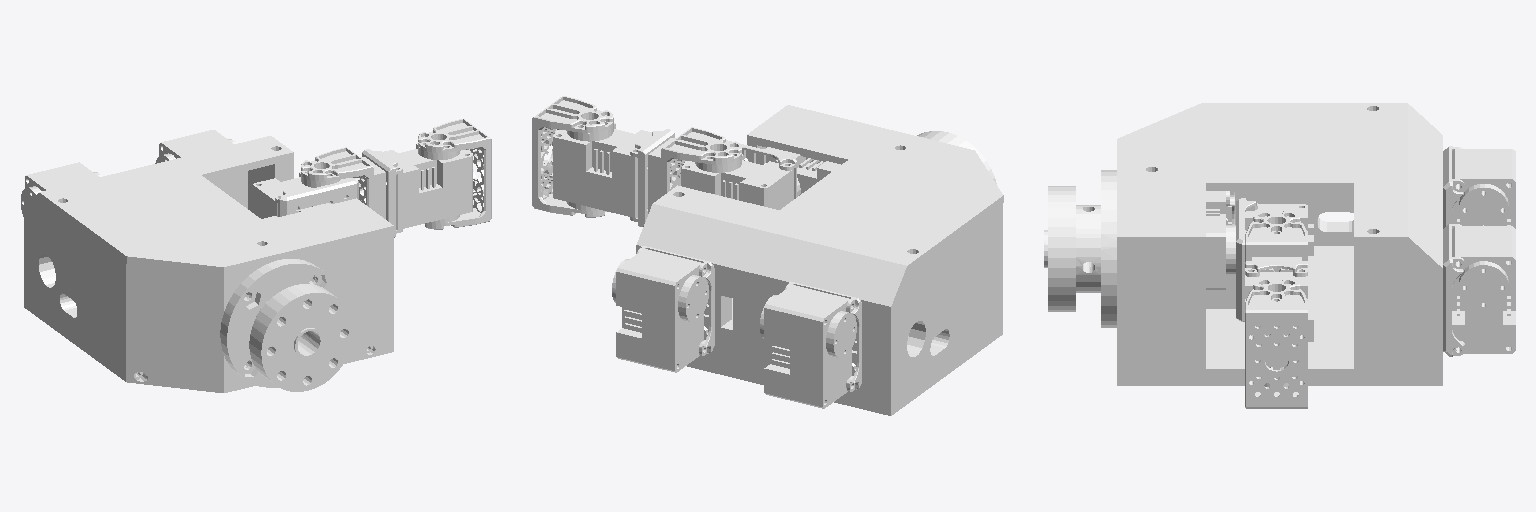
The robot description file, URDF, robot "GX11":
<?xml version="1.0" encoding="utf-8"?>
<!-- This URDF was automatically created by SolidWorks to URDF Exporter! Originally created by Stephen Brawner (brawner@gmail.com) 
     Commit Version: 1.6.0-4-g7f85cfe  Build Version: 1.6.7995.38578
     For more information, please see http://wiki.ros.org/sw_urdf_exporter -->
<robot
  name="GX11">
  <link
    name="base_link">
    <inertial>
      <origin
        xyz="-0.000164465254966286 0.0753636764228905 -0.000506878057324069"
        rpy="0 0 0" />
      <mass
        value="0.266277587847292" />
      <inertia
        ixx="0.000187302227077025"
        ixy="1.5370580827788E-05"
        ixz="6.53664500625844E-06"
        iyy="0.000234511583653576"
        iyz="-7.69527139734874E-06"
        izz="0.000333571603957182" />
    </inertial>
    <visual>
      <origin
        xyz="0 0 0"
        rpy="0 0 0" />
      <geometry>
        <mesh
          filename="meshes/base_link.STL" />
      </geometry>
      <material
        name="">
        <color
          rgba="1 1 1 1" />
      </material>
    </visual>
    <collision>
      <origin
        xyz="0 0 0"
        rpy="0 0 0" />
      <geometry>
        <mesh
          filename="meshes/base_link.STL" />
      </geometry>
    </collision>
  </link>
  <link
    name="link1">
    <inertial>
      <origin
        xyz="-0.00806405790907332 -0.000279377679083986 -0.00113281933961043"
        rpy="0 0 0" />
      <mass
        value="0.0176678393044671" />
      <inertia
        ixx="1.47006653227034E-06"
        ixy="1.17278886070137E-08"
        ixz="4.36396719283536E-15"
        iyy="2.21216244462258E-06"
        iyz="-1.53911853230504E-16"
        izz="2.71458475514186E-06" />
    </inertial>
    <visual>
      <origin
        xyz="0 0 0"
        rpy="0 0 0" />
      <geometry>
        <mesh
          filename="meshes/link1.STL" />
      </geometry>
      <material
        name="">
        <color
          rgba="1 1 1 1" />
      </material>
    </visual>
    <collision>
      <origin
        xyz="0 0 0"
        rpy="0 0 0" />
      <geometry>
        <mesh
          filename="meshes/link1.STL" />
      </geometry>
    </collision>
  </link>
  <joint
    name="joint1"
    type="revolute">
    <origin
      xyz="0.0330000000000006 0.0735000000000002 0.0150000000000006"
      rpy="1.5707963267949 0 -3.14159265358979" />
    <parent
      link="base_link" />
    <child
      link="link1" />
    <axis
      xyz="0 0 -1" />
    <limit
      lower="-0.349"
      upper="2.049"
      effort="0"
      velocity="0" />
  </joint>
  <link
    name="link2">
    <inertial>
      <origin
        xyz="0.0364441226647731 1.69664629567912E-14 -0.000227157618897906"
        rpy="0 0 0" />
      <mass
        value="0.021729405455091" />
      <inertia
        ixx="2.15176535186668E-06"
        ixy="5.80286874153467E-18"
        ixz="-1.17278836895553E-08"
        iyy="3.16845263970642E-06"
        iyz="1.34205099819563E-18"
        izz="2.34350105652615E-06" />
    </inertial>
    <visual>
      <origin
        xyz="0 0 0"
        rpy="0 0 0" />
      <geometry>
        <mesh
          filename="meshes/link2.STL" />
      </geometry>
      <material
        name="">
        <color
          rgba="1 1 1 1" />
      </material>
    </visual>
    <collision>
      <origin
        xyz="0 0 0"
        rpy="0 0 0" />
      <geometry>
        <mesh
          filename="meshes/link2.STL" />
      </geometry>
    </collision>
  </link>
  <joint
    name="joint2"
    type="revolute">
    <origin
      xyz="-0.015 0 0"
      rpy="1.5707963267949 0 3.14159265358979" />
    <parent
      link="link1" />
    <child
      link="link2" />
    <axis
      xyz="0 0 1" />
    <limit
      lower="-1.9"
      upper="1.2"
      effort="0"
      velocity="0" />
  </joint>
  <link
    name="link3">
    <inertial>
      <origin
        xyz="0.0100787253876422 2.82144967111986E-13 -1.36311968657044E-12"
        rpy="0 0 0" />
      <mass
        value="0.00246574345897091" />
      <inertia
        ixx="5.18359333243009E-07"
        ixy="3.43589587907983E-18"
        ixz="-2.71094054875865E-17"
        iyy="5.59493403624435E-07"
        iyz="2.78028007694911E-18"
        izz="2.11674207292557E-07" />
    </inertial>
    <visual>
      <origin
        xyz="0 0 0"
        rpy="0 0 0" />
      <geometry>
        <mesh
          filename="meshes/link3.STL" />
      </geometry>
      <material
        name="">
        <color
          rgba="1 1 1 1" />
      </material>
    </visual>
    <collision>
      <origin
        xyz="0 0 0"
        rpy="0 0 0" />
      <geometry>
        <mesh
          filename="meshes/link3.STL" />
      </geometry>
    </collision>
  </link>
  <joint
    name="joint3"
    type="revolute">
    <origin
      xyz="0.0505 0 0"
      rpy="0 0 0" />
    <parent
      link="link2" />
    <child
      link="link3" />
    <axis
      xyz="0 0 1" />
    <limit
      lower="-1.88"
      upper="1.34"
      effort="0"
      velocity="0" />
  </joint>
</robot>

--- Facts derived from the render (not from the file) ---
Views: 3 orthographic renders of the robot side by side, from view 1: azimuth 30°, elevation 25°; view 2: azimuth 150°, elevation 25°; view 3: azimuth 270°, elevation 25°.
Robot: GX11 — 4 links, 3 joints (3 revolute); root link base_link; default pose: all joints at 0.
Links seen in each view (by area): view 1: base_link, link2, link3, link1; view 2: base_link, link2, link1, link3; view 3: base_link, link3, link2, link1.
Boxes of the visible links, bbox=[...] form: base_link: bbox=[21, 130, 393, 392]; link2: bbox=[301, 143, 472, 237]; link3: bbox=[418, 119, 491, 229]; link1: bbox=[253, 172, 358, 218]; base_link: bbox=[612, 105, 1003, 415]; link2: bbox=[553, 123, 741, 226]; link1: bbox=[681, 140, 796, 209]; link3: bbox=[532, 96, 613, 217]; base_link: bbox=[1044, 103, 1515, 385]; link3: bbox=[1245, 278, 1307, 408]; link2: bbox=[1245, 211, 1307, 386]; link1: bbox=[1236, 198, 1307, 321].
Size in the robot's own frame: 0.1655 by 0.149 by 0.0573 metres.
Meshes: 4 distinct files referenced, 4 mesh visuals loaded (4 binary STL).
